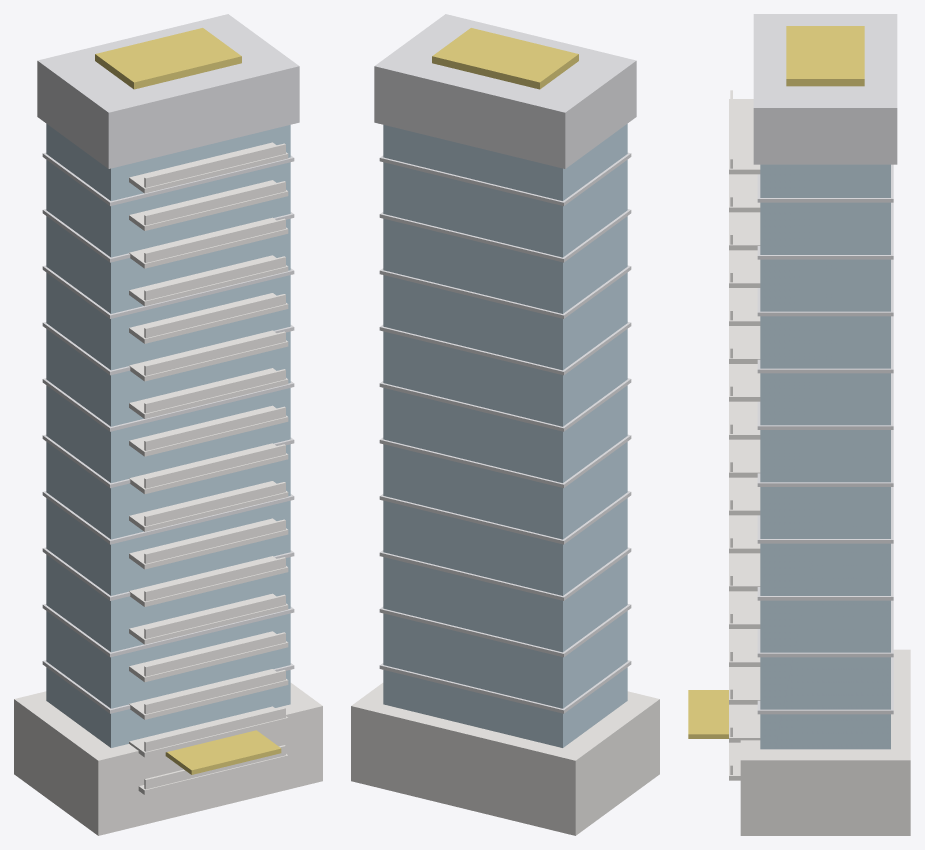
File: condo-tower.glb
3 views of the same model, side by side, from view 1: azimuth 30°, elevation 25°; view 2: azimuth 150°, elevation 25°; view 3: azimuth 270°, elevation 25° (orthographic).
Visible parts, largest first — view 1: MainTower, Balconies, Crown, Podium, FloorPlates, RoofDeck, Canopy; view 2: MainTower, Podium, Crown, FloorPlates, RoofDeck; view 3: MainTower, Balconies, Crown, Podium, FloorPlates, RoofDeck, Canopy.
Boxes of the visible parts, bbox=[...] form: MainTower: bbox=[46, 124, 290, 747]; Balconies: bbox=[129, 142, 288, 794]; Crown: bbox=[37, 14, 299, 168]; Podium: bbox=[14, 683, 322, 835]; FloorPlates: bbox=[42, 152, 294, 713]; RoofDeck: bbox=[95, 28, 241, 89]; Canopy: bbox=[165, 730, 281, 774]; MainTower: bbox=[383, 124, 627, 747]; Podium: bbox=[351, 683, 659, 835]; Crown: bbox=[374, 14, 636, 168]; FloorPlates: bbox=[379, 152, 631, 713]; RoofDeck: bbox=[432, 28, 578, 89]; MainTower: bbox=[760, 164, 890, 749]; Balconies: bbox=[729, 90, 760, 780]; Crown: bbox=[753, 14, 897, 164]; Podium: bbox=[740, 649, 910, 835]; FloorPlates: bbox=[757, 164, 893, 714]; RoofDeck: bbox=[786, 26, 864, 86]; Canopy: bbox=[688, 690, 728, 738].
Size of the model in its own units: 1 by 3.08 by 0.85.
